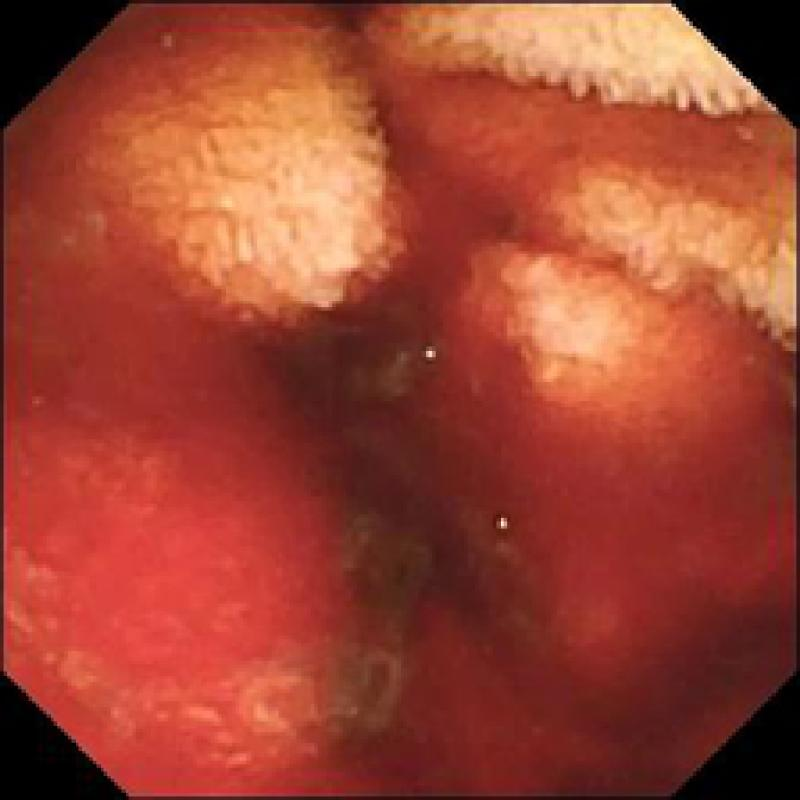bleeding: (0, 21, 800, 800)
